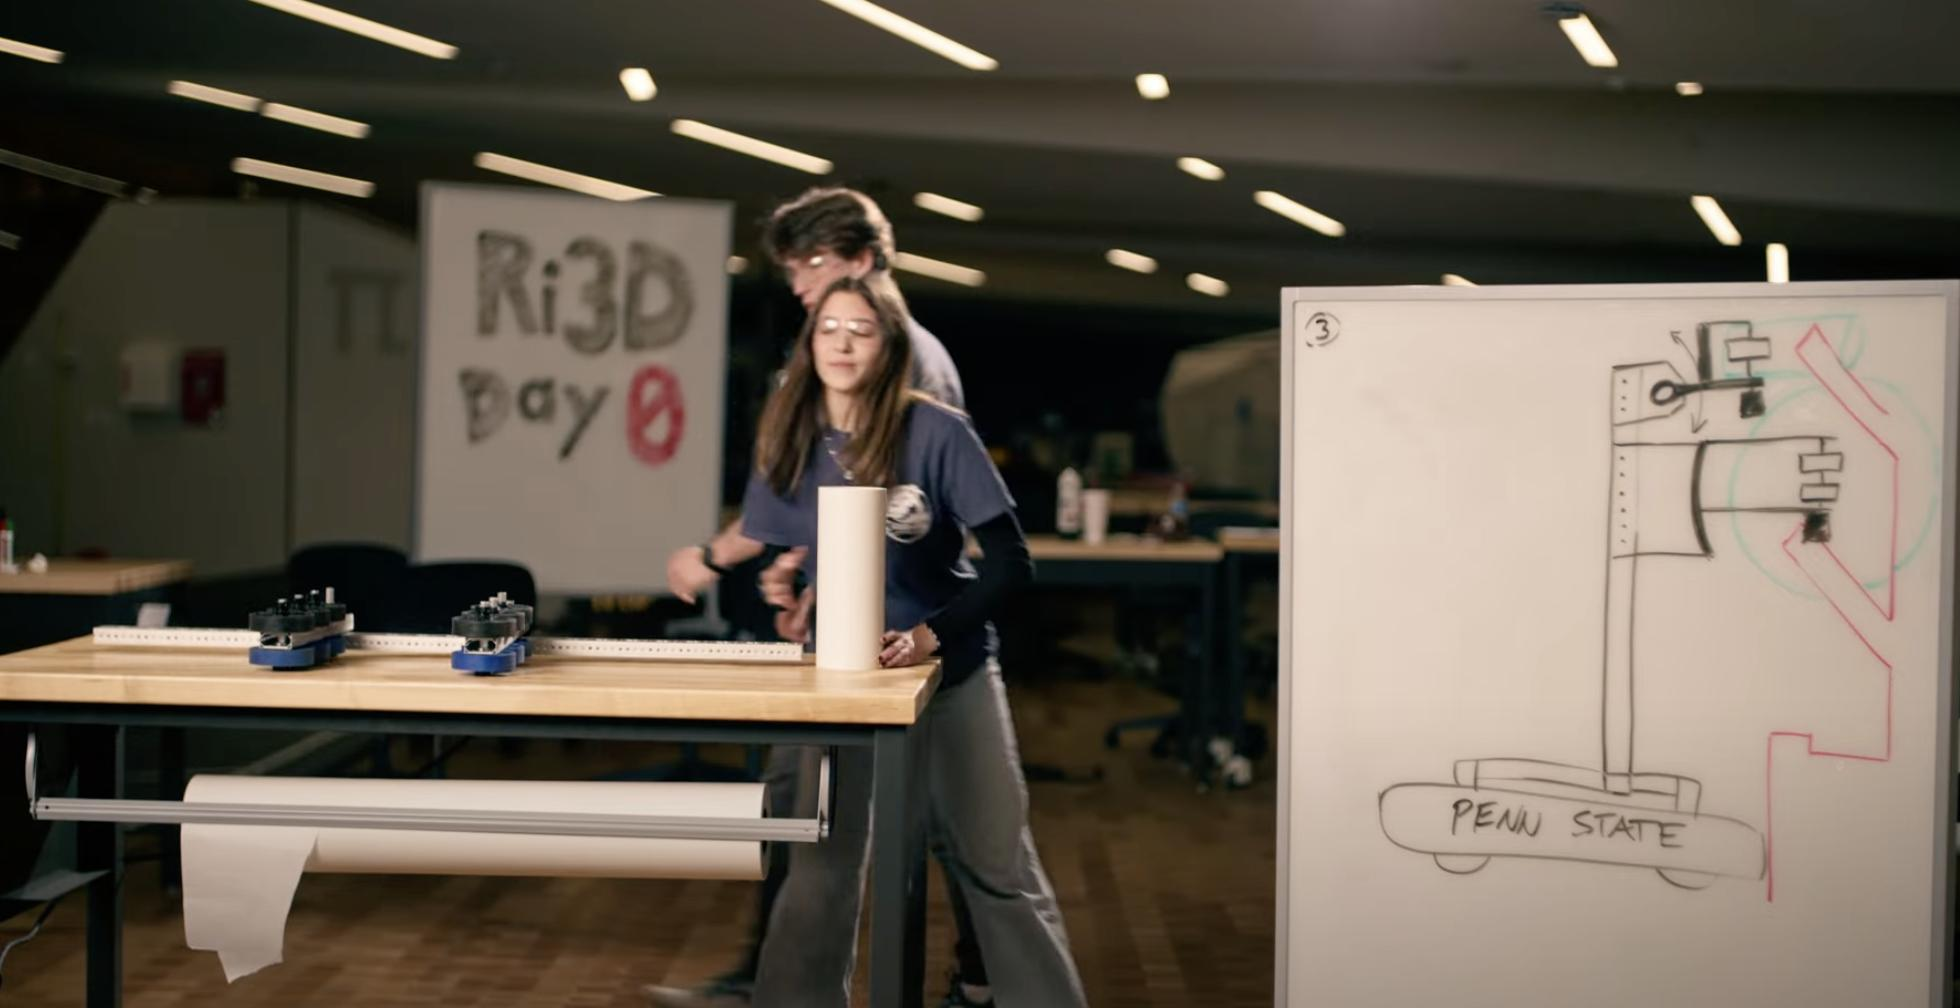CORAL: (816, 482, 884, 666)
